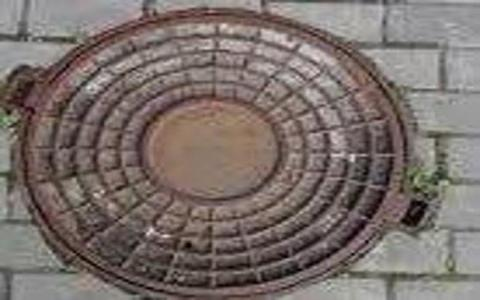proper manhole: (1, 3, 428, 292)
